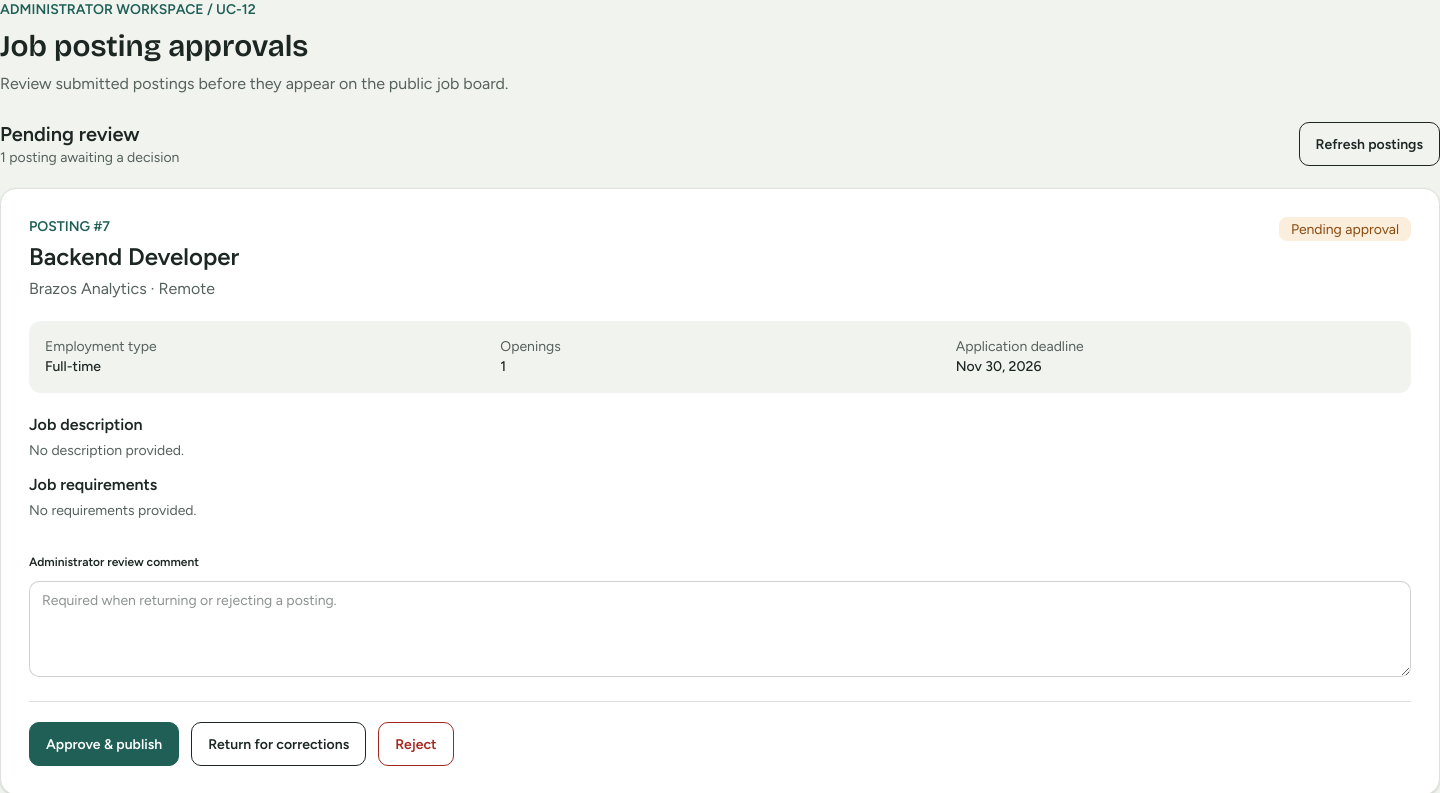
Test: ApprovalQueue › asks for a reason before returning a posting
expect the heading "Backend Developer" is shown: met, box [29,241,239,273]
Click the button "Return for corrections" at (279, 744), box [191,722,366,766]
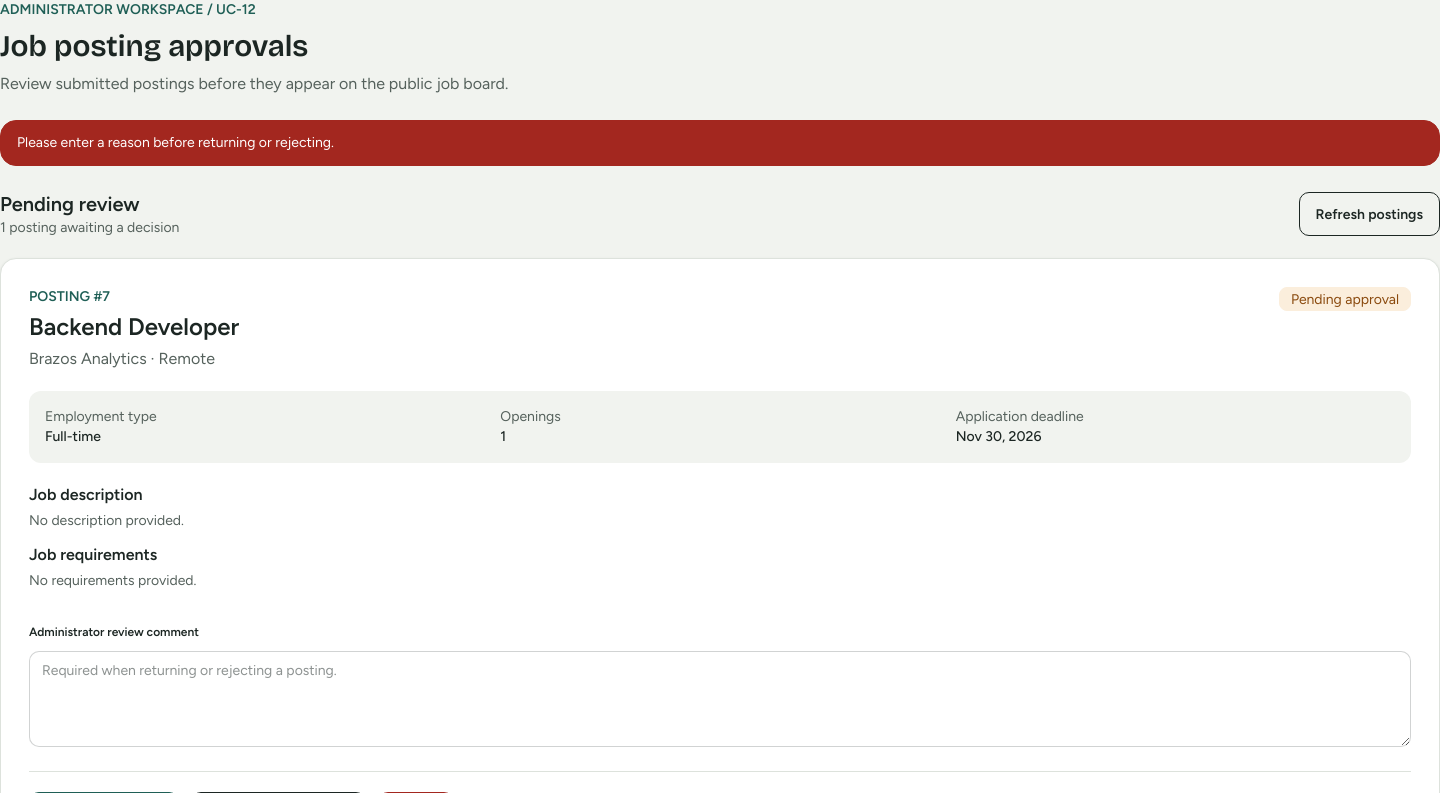
expect the message shows "Please enter a reason": met, box [17,134,334,151]
